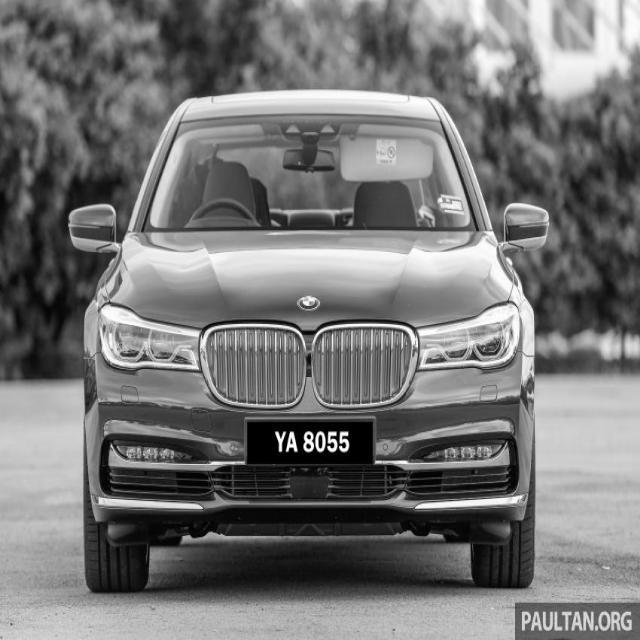car-plate: (241, 416, 377, 466)
